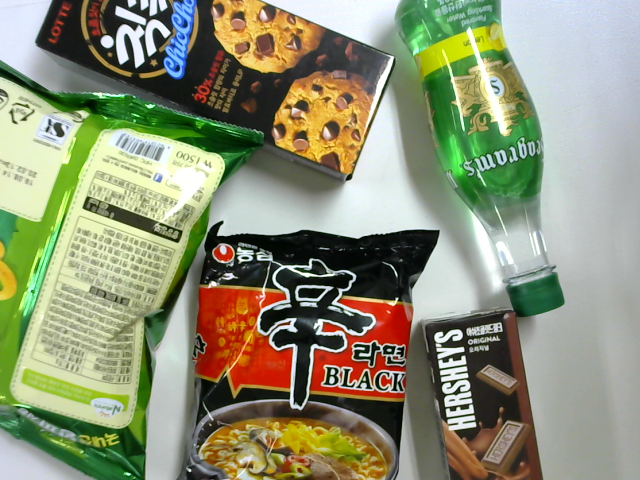Chicchok_Original_2400: (37, 2, 401, 182)
Grilled_Onions: (3, 62, 240, 480)
Hush_Choco_Drink: (421, 308, 545, 480)
Seagram_Lemon_Carbonated_Water: (391, 6, 567, 322)
Sinramen_Black: (191, 222, 439, 480)
